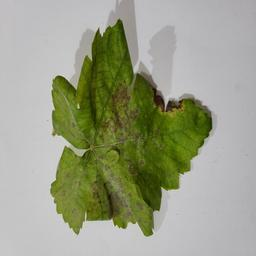Powdery-Mildew: (64, 166, 92, 211), (108, 176, 136, 216), (112, 87, 139, 123), (54, 95, 79, 133), (168, 133, 198, 162), (96, 128, 126, 153)
